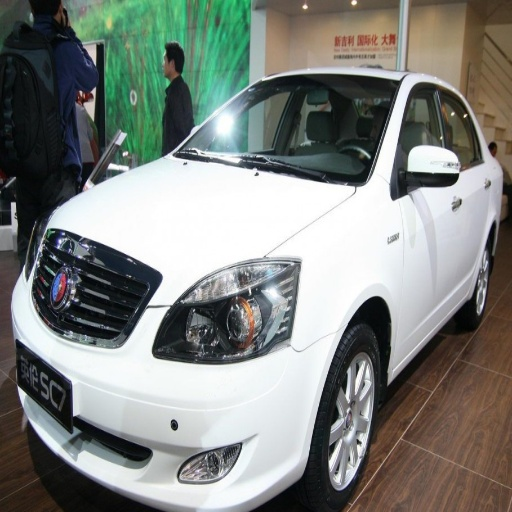front_bumper: (14, 241, 340, 511)
front_glass: (174, 77, 400, 185)
front_left_door: (396, 82, 463, 362)
